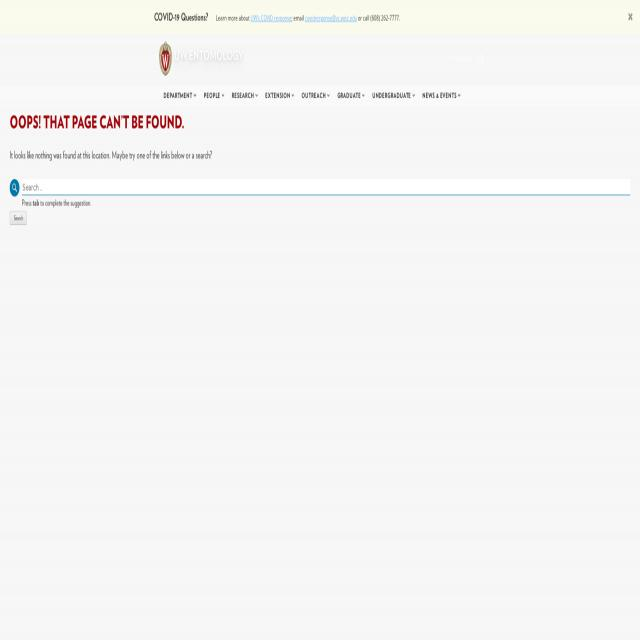button: (367, 85, 419, 106), (418, 84, 464, 106), (161, 85, 200, 104), (260, 86, 296, 106), (296, 86, 332, 106), (332, 86, 367, 106), (227, 85, 260, 104), (200, 84, 226, 106), (159, 42, 172, 76), (10, 211, 27, 224), (10, 179, 19, 196), (626, 10, 634, 24)
field: (22, 178, 631, 195)
